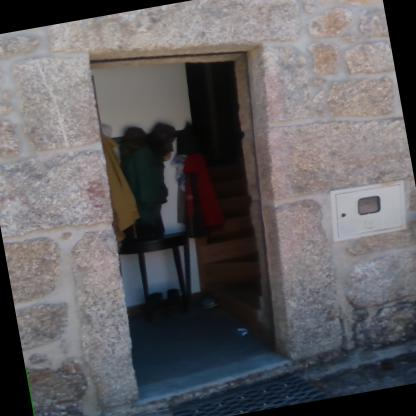open: (37, 0, 332, 415)
